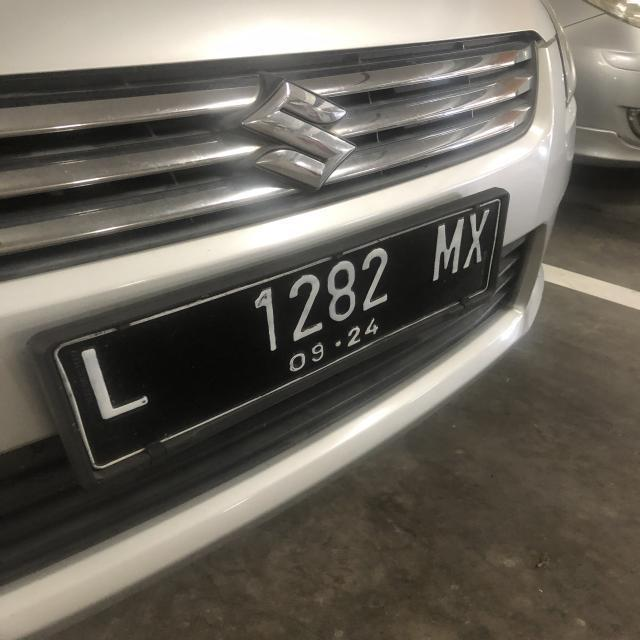1: (252, 284, 284, 356)
2: (290, 271, 326, 343), (361, 248, 392, 308)
8: (327, 258, 358, 322)
L: (80, 338, 149, 420)
M: (430, 218, 469, 282)
X: (466, 208, 492, 272)
